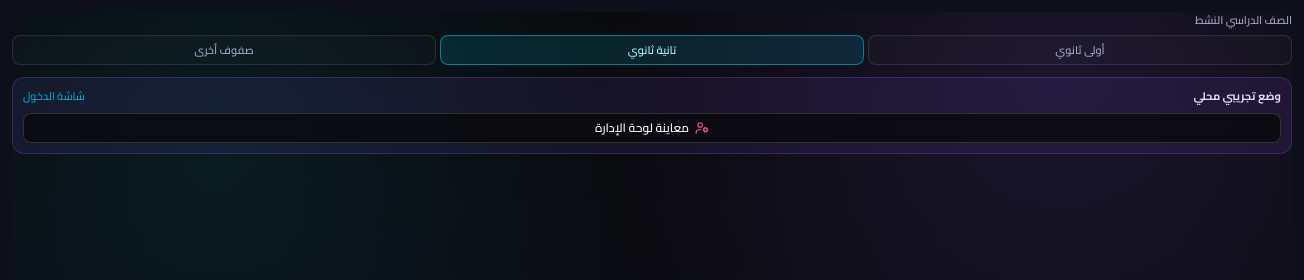
Navigation shell payload optimization and mobile controls › displays Arabic error feedback when ShellControls actions fail
This screenshot has width=1304, height=280.
Click the button "أولى ثانوي" at (1080, 50), box 868,34 -> 1292,65
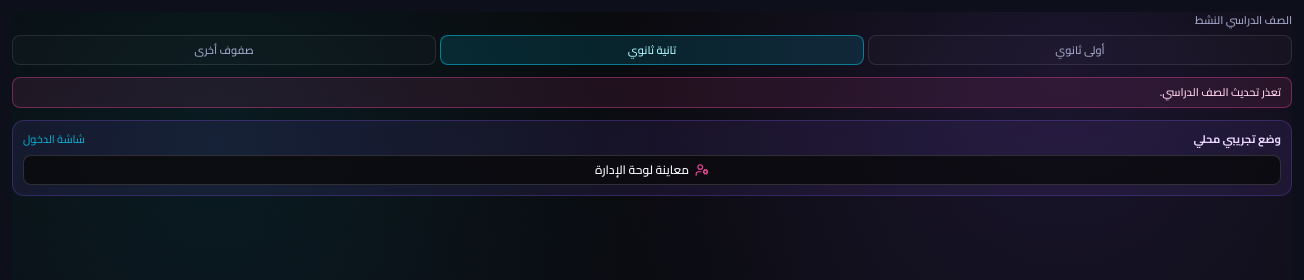
expect the message reads "تعذر تحديث الصف الدراسي.": met, box 1160,82 -> 1281,102
